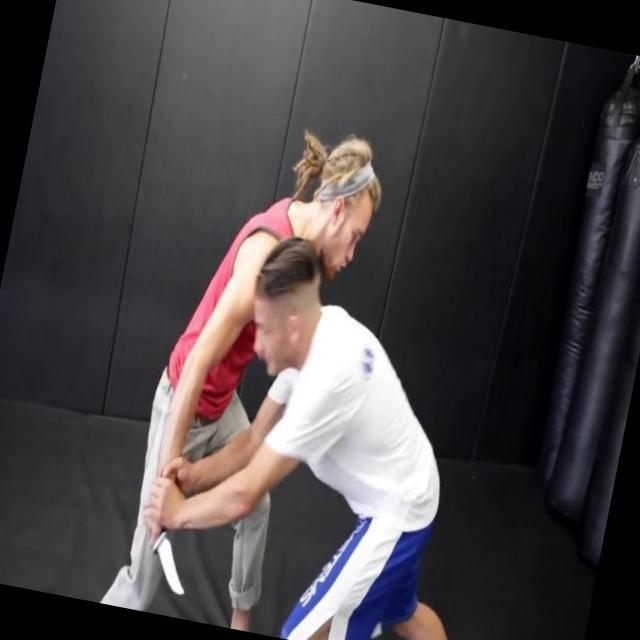Knife: (128, 518, 203, 604)
